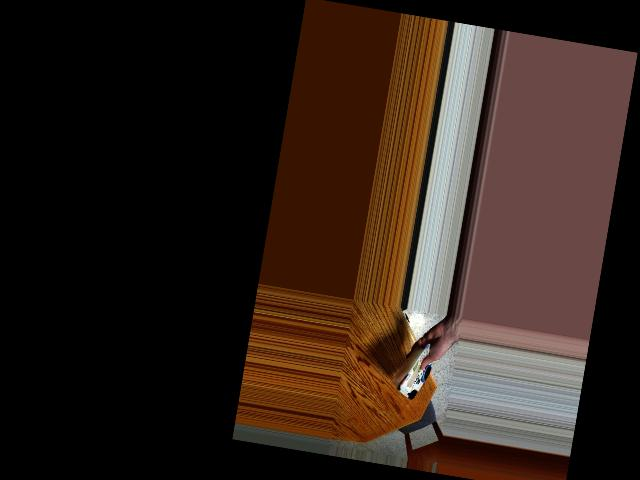cheese: (391, 347, 442, 400)
